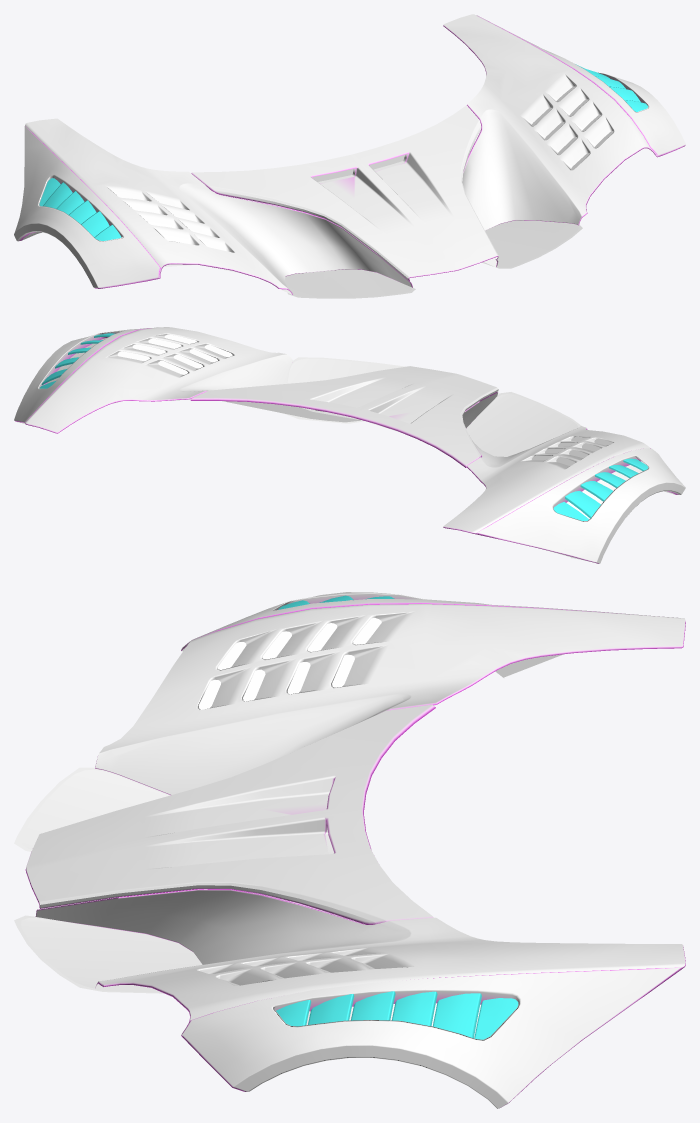
File: Car_Ford_GT_2017_Hood_SetT.fbx
3 renders of one model, top to bottom at view 1: azimuth 30°, elevation 25°; view 2: azimuth 150°, elevation 25°; view 3: azimuth 270°, elevation 25°, orthographic. The views are drawn at different scales.
Visible parts, largest first — view 1: Hood 6; view 2: Hood 6; view 3: Hood 6.
Part boxes in pixels (bbox=[...]): Hood 6: bbox=[14, 14, 685, 298]; Hood 6: bbox=[14, 327, 685, 563]; Hood 6: bbox=[14, 592, 685, 1108].
Size of the model in its own units: 2.14 by 0.2591 by 1.33.
